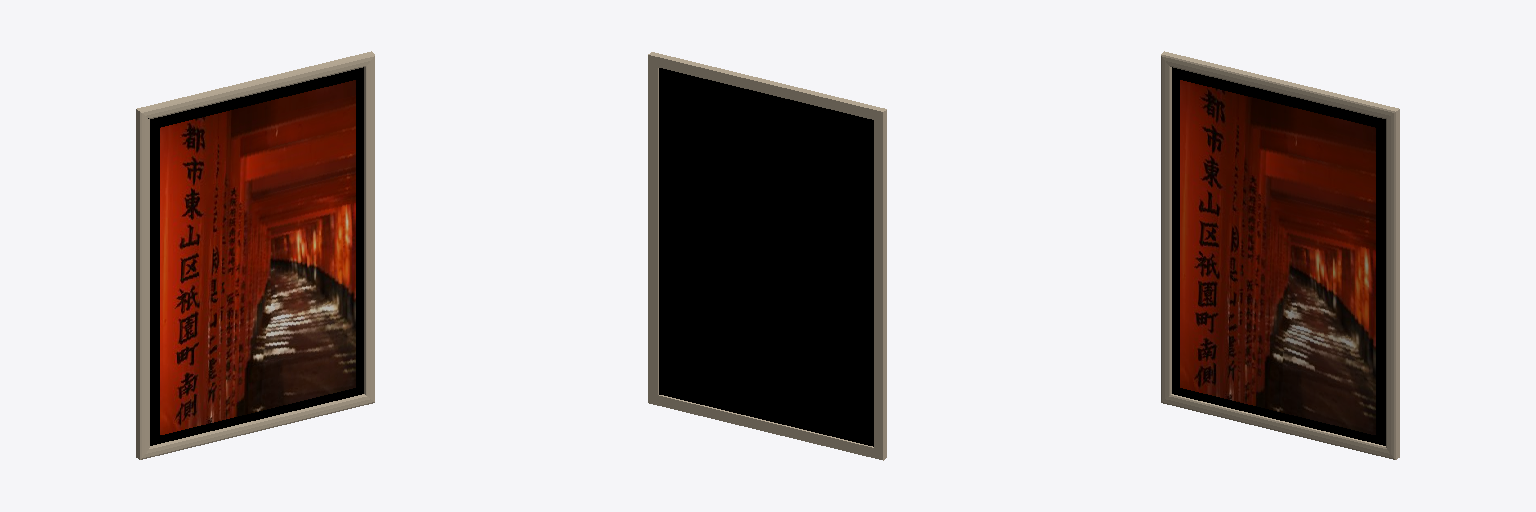
3 renders of one model, left to right at view 1: azimuth 30°, elevation 25°; view 2: azimuth 150°, elevation 25°; view 3: azimuth 330°, elevation 25°, orthographic.
Visible parts, largest first — view 1: Photo_Cube_Material_Inari.jpg, MetalFrame_Cylinder_Aluminium.006, Frame_Black_Material.007; view 2: Frame_Black_Material.007, MetalFrame_Cylinder_Aluminium.006; view 3: Photo_Cube_Material_Inari.jpg, MetalFrame_Cylinder_Aluminium.006, Frame_Black_Material.007.
Boxes of the visible parts, x1,y1,x2,y2 form: Photo_Cube_Material_Inari.jpg: [160, 80, 355, 434]; MetalFrame_Cylinder_Aluminium.006: [136, 51, 374, 459]; Frame_Black_Material.007: [148, 67, 363, 445]; Frame_Black_Material.007: [659, 68, 873, 446]; MetalFrame_Cylinder_Aluminium.006: [648, 52, 886, 460]; Photo_Cube_Material_Inari.jpg: [1180, 80, 1375, 434]; MetalFrame_Cylinder_Aluminium.006: [1161, 51, 1399, 459]; Frame_Black_Material.007: [1172, 67, 1385, 445].
Size of the model in its own units: 48 by 67.91 by 1.6.
Materials: 3 (1 with a texture image).